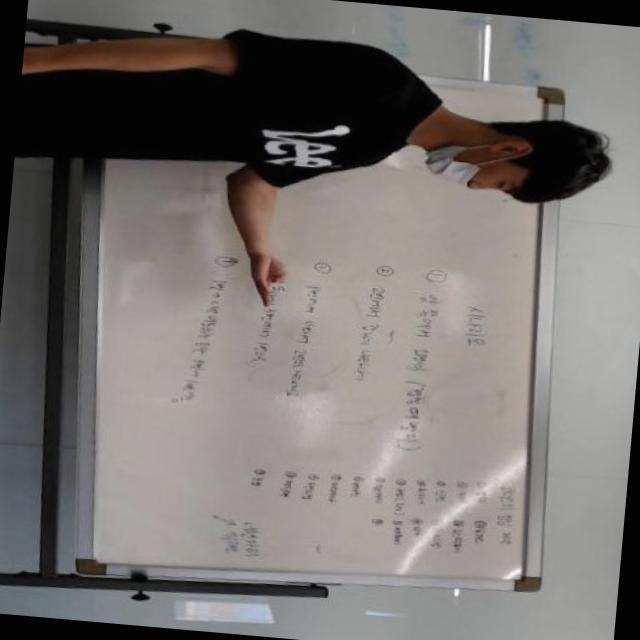Instructor: (77, 23, 627, 219)
White-board: (72, 55, 559, 589)
